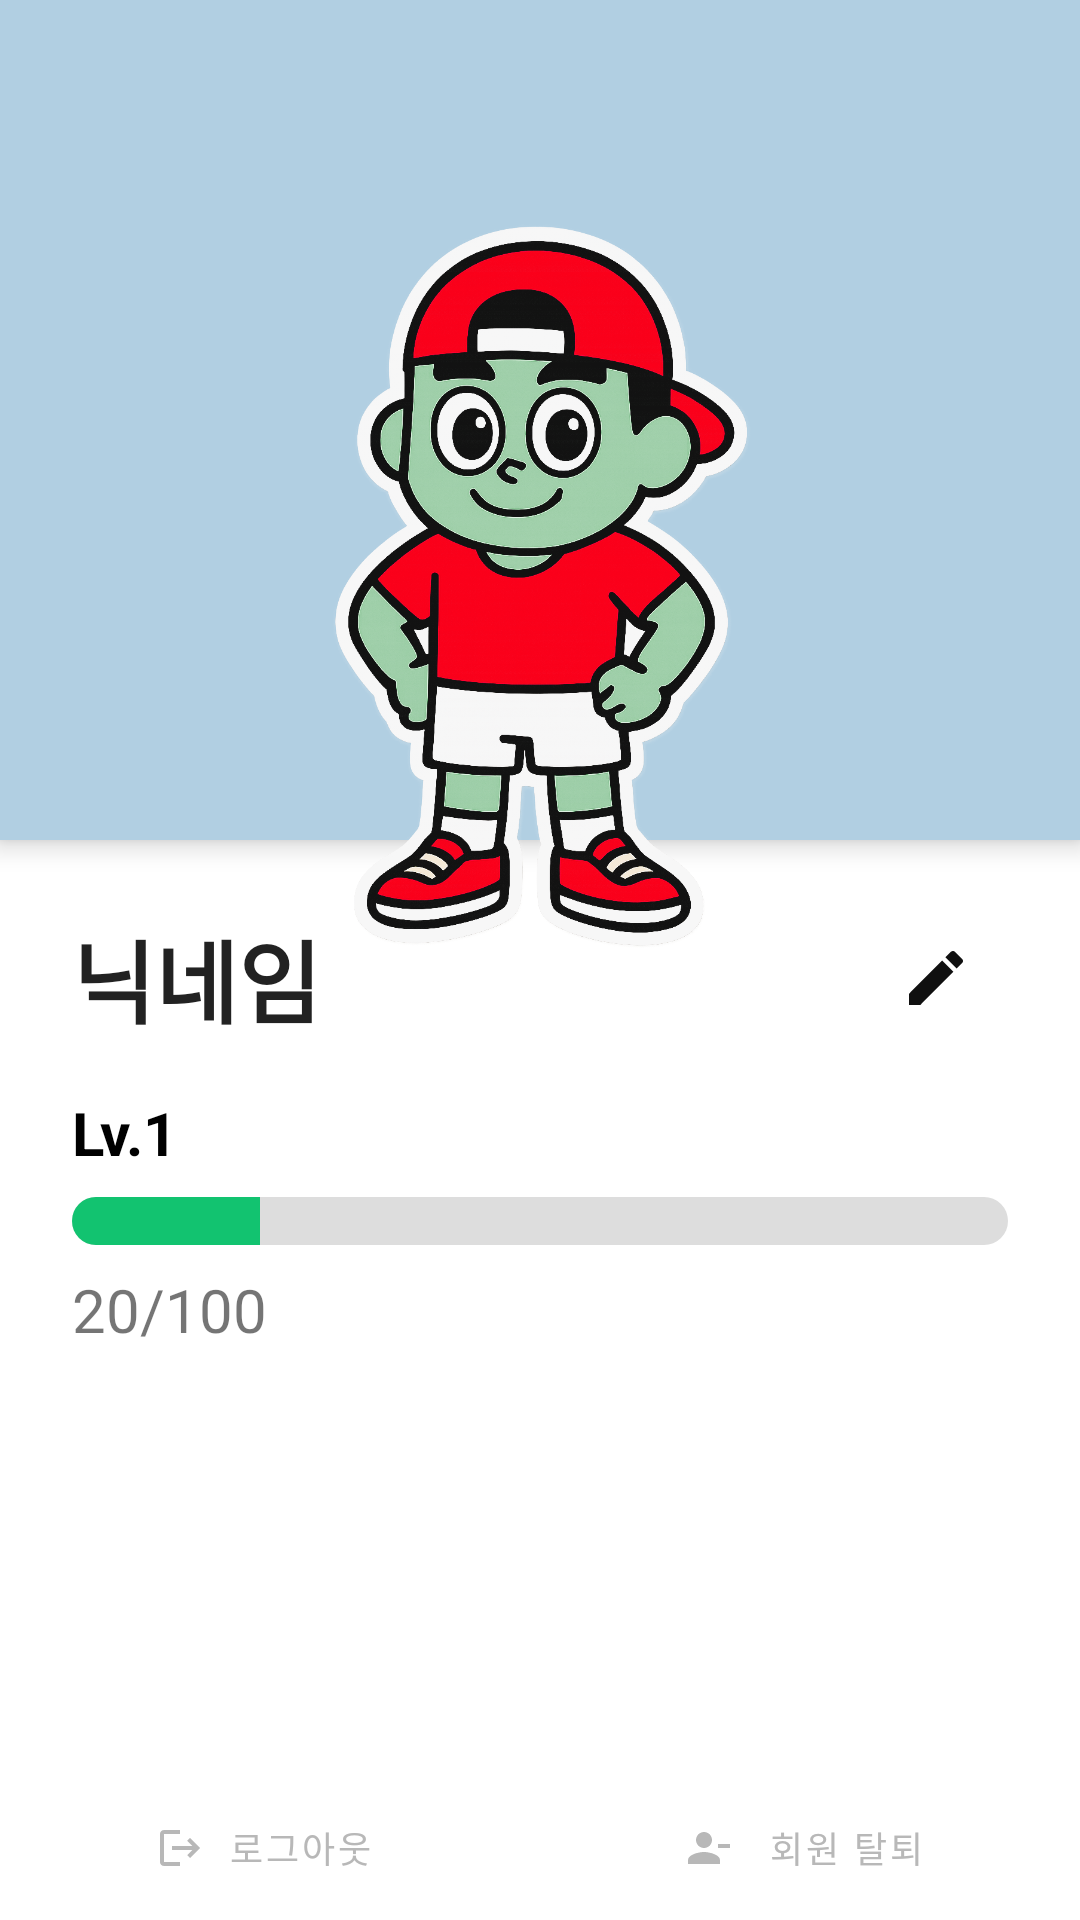

Screen size 1080px×1920px. Icon name, then its box in pixels as {"left": x1, "top": y1, "right": x2, "bottom": y2}:
Edit: {"left": 909, "top": 951, "right": 963, "bottom": 1005}
